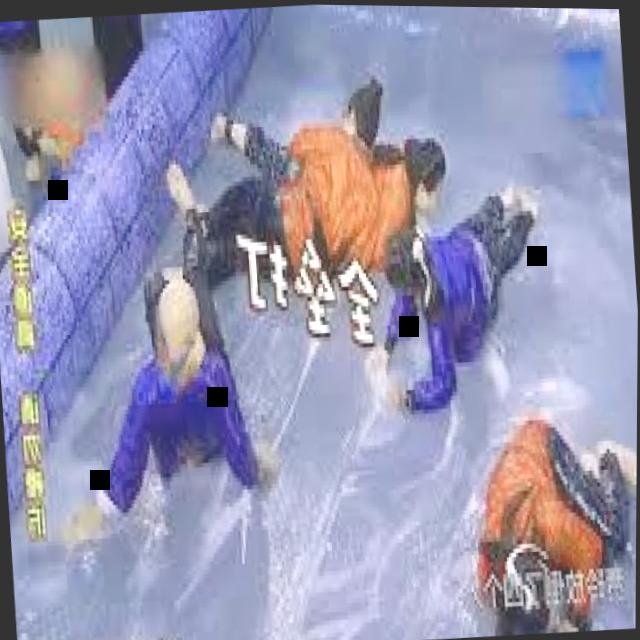Fall-Detected: (169, 40, 427, 285)
